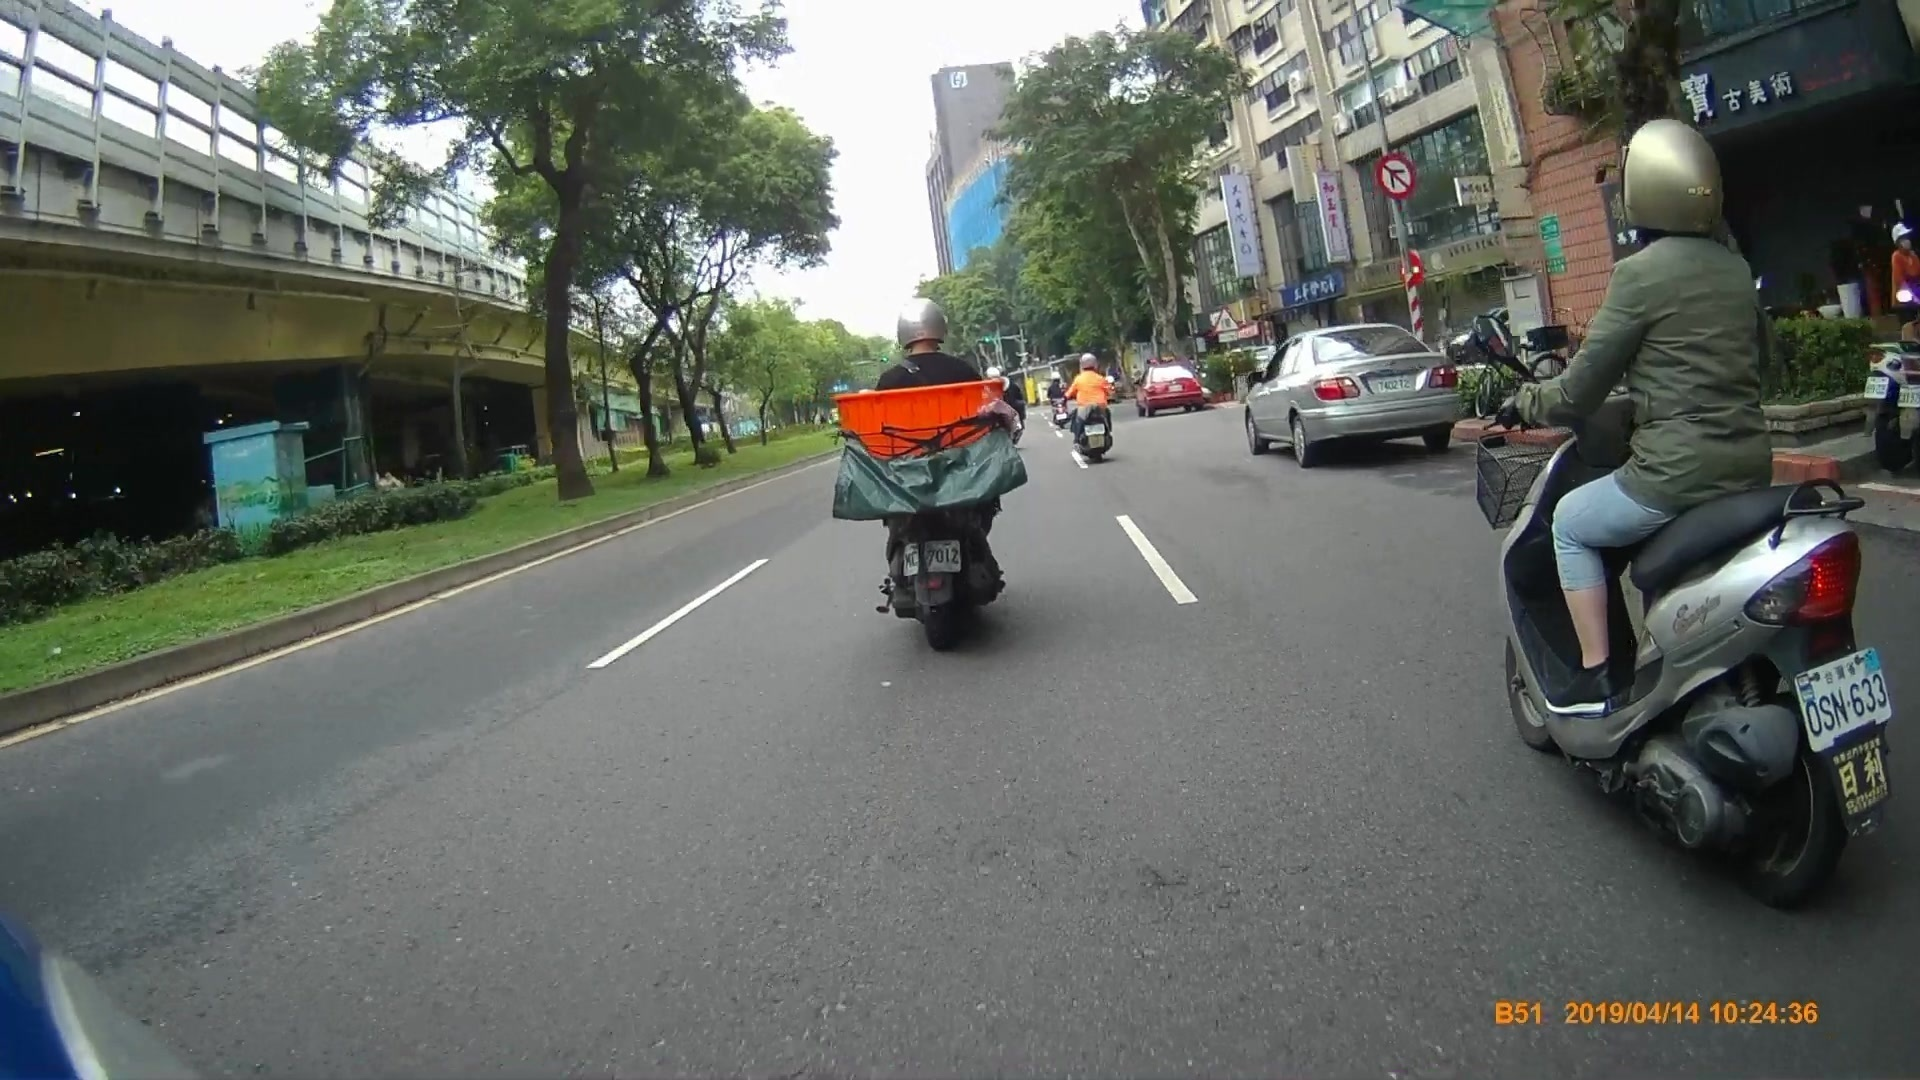License_plate: (1790, 648, 1887, 740), (894, 547, 964, 575), (1373, 376, 1419, 396)
